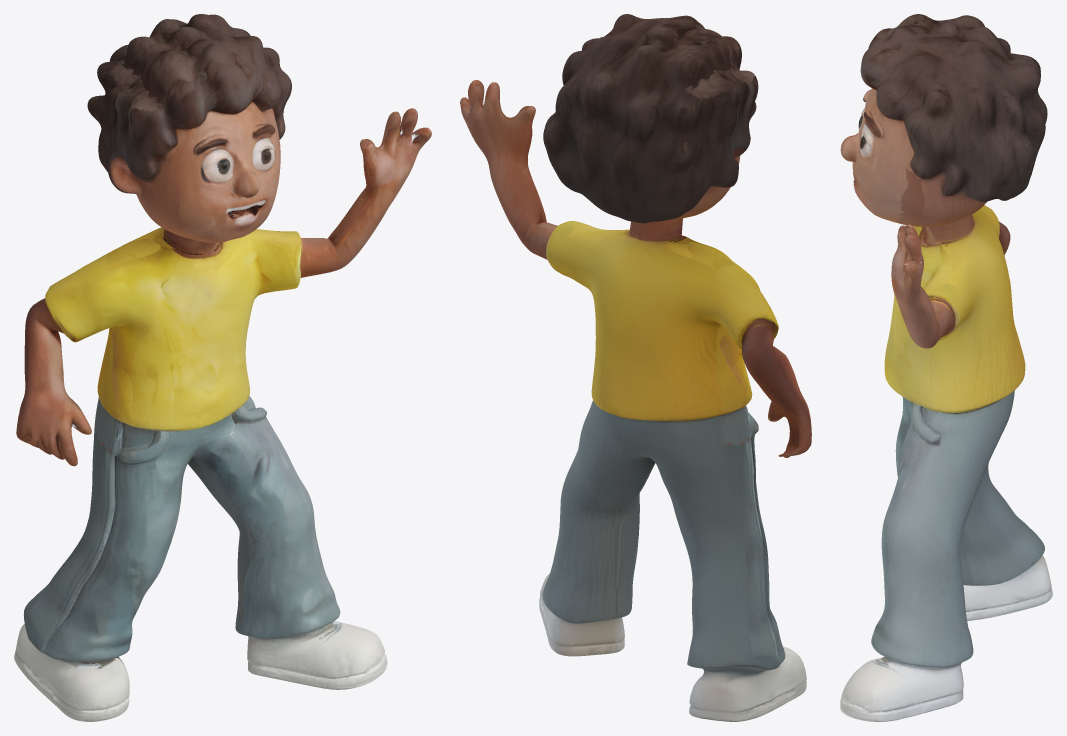
The model's file is NiñoC72.glb.
3 renders of one model, left to right at view 1: azimuth 30°, elevation 25°; view 2: azimuth 150°, elevation 25°; view 3: azimuth 270°, elevation 25°, orthographic. The views are drawn at different scales.
Parts seen in each view (by area): view 1: model; view 2: model; view 3: model.
Part boxes in pixels (<box>): model: <box>14,14,431,721</box>; model: <box>460,14,811,721</box>; model: <box>840,14,1052,721</box>.
Bounding box in the file's own units: 1.17 × 1.9 × 0.5803.
Materials: 1 (1 with a texture image).
